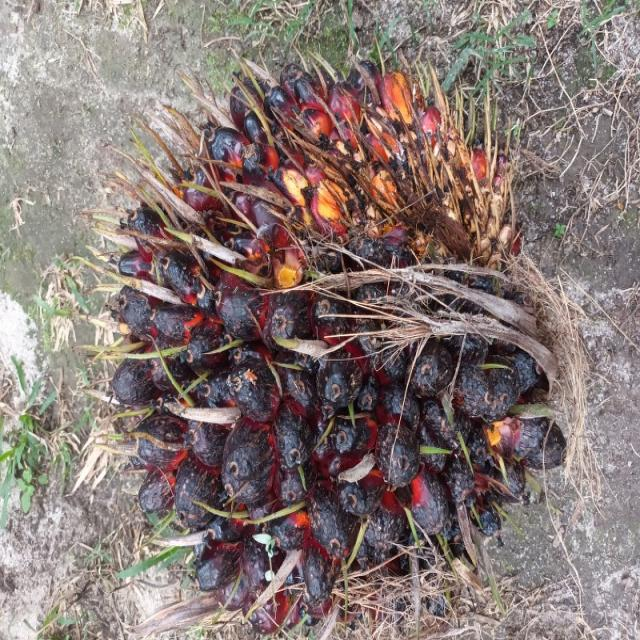fraksi 00: (85, 59, 568, 624)
